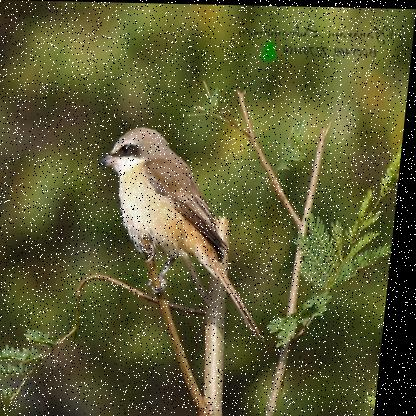Burung: (90, 124, 292, 341)
